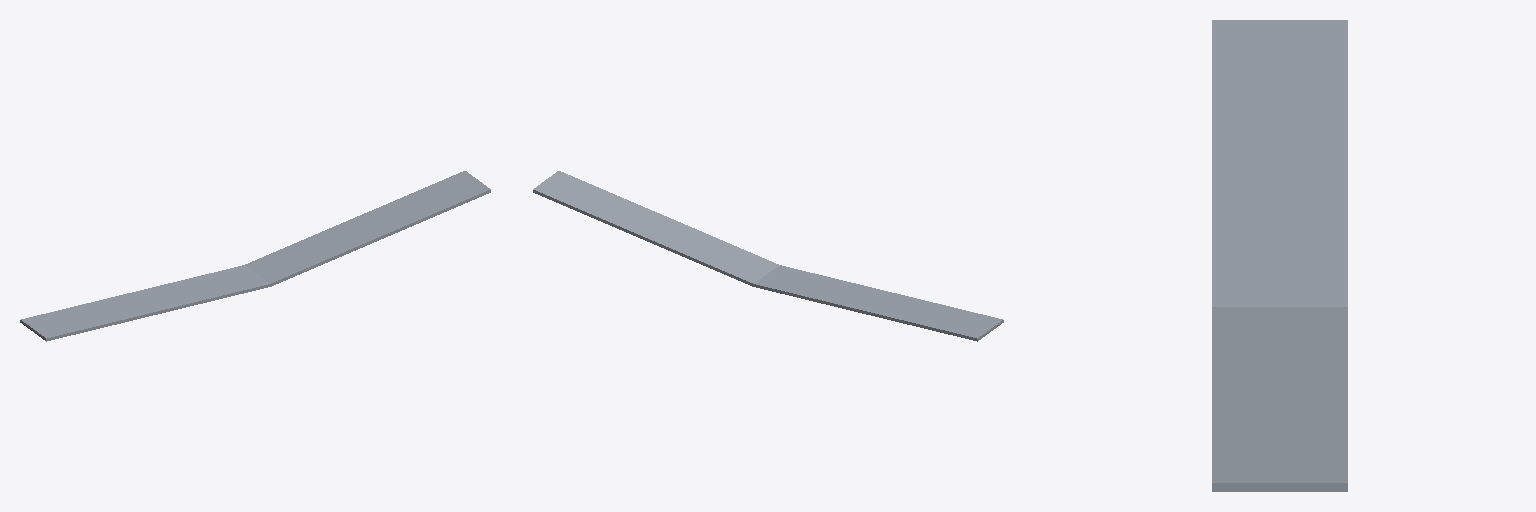
robot.urdf — env_3:
<?xml version="1.0" encoding="utf-8"?>
<robot name="env_3">
  <link name="base_link">
    <inertial>
      <origin xyz="1.0 0.1 0.036912" rpy="0 0 0" />
      <mass value="1.0" />
      <inertia ixx="0.0033474167" ixy="0" ixz="0" iyy="0.3333474167" iyz="0" izz="0.3366666667" />
    </inertial>

    <visual>
      <origin xyz="0.5 0.1 -0.0065" rpy="0 0 0" />
      <geometry>
        <box size="1.0 0.2 0.013" />
      </geometry>
      <material name="ledge_gray">
        <color rgba="0.65 0.68 0.72 1" />
      </material>
    </visual>
    <collision>
      <origin xyz="0.5 0.1 -0.0065" rpy="0 0 0" />
      <geometry>
        <box size="1.0 0.2 0.013" />
      </geometry>
    </collision>

    <visual>
      <origin xyz="1.491204 0.1 0.080324" rpy="0 -0.174533 0" />
      <geometry>
        <box size="1.0 0.2 0.013" />
      </geometry>
      <material name="ledge_gray">
        <color rgba="0.65 0.68 0.72 1" />
      </material>
    </visual>
    <collision>
      <origin xyz="1.491204 0.1 0.080324" rpy="0 -0.174533 0" />
      <geometry>
        <box size="1.0 0.2 0.013" />
      </geometry>
    </collision>
  </link>
</robot>

--- What the picture shows (computed from the rendered views, not written in the file) ---
The picture shows the robot from 3 angles, left to right: view 1: azimuth 30°, elevation 25°; view 2: azimuth 150°, elevation 25°; view 3: azimuth 270°, elevation 25°; orthographic projection.
Robot: env_3 — 1 links, 0 joints (none); root link base_link; default pose: every joint at zero.
Links seen in each view (by area): view 1: base_link; view 2: base_link; view 3: base_link.
Link boxes in pixels (box(x1,y1,x2,y2)): base_link: box(20, 171, 490, 341); base_link: box(533, 171, 1003, 341); base_link: box(1212, 20, 1347, 491).
Bounding box of the posed robot: 1.98 × 0.2 × 0.1865 m (x, y, z).
Geometry: primitives only (box / cylinder / sphere), no mesh files.
